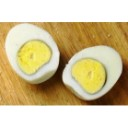begg: (63, 45, 125, 100), (5, 24, 59, 80)
